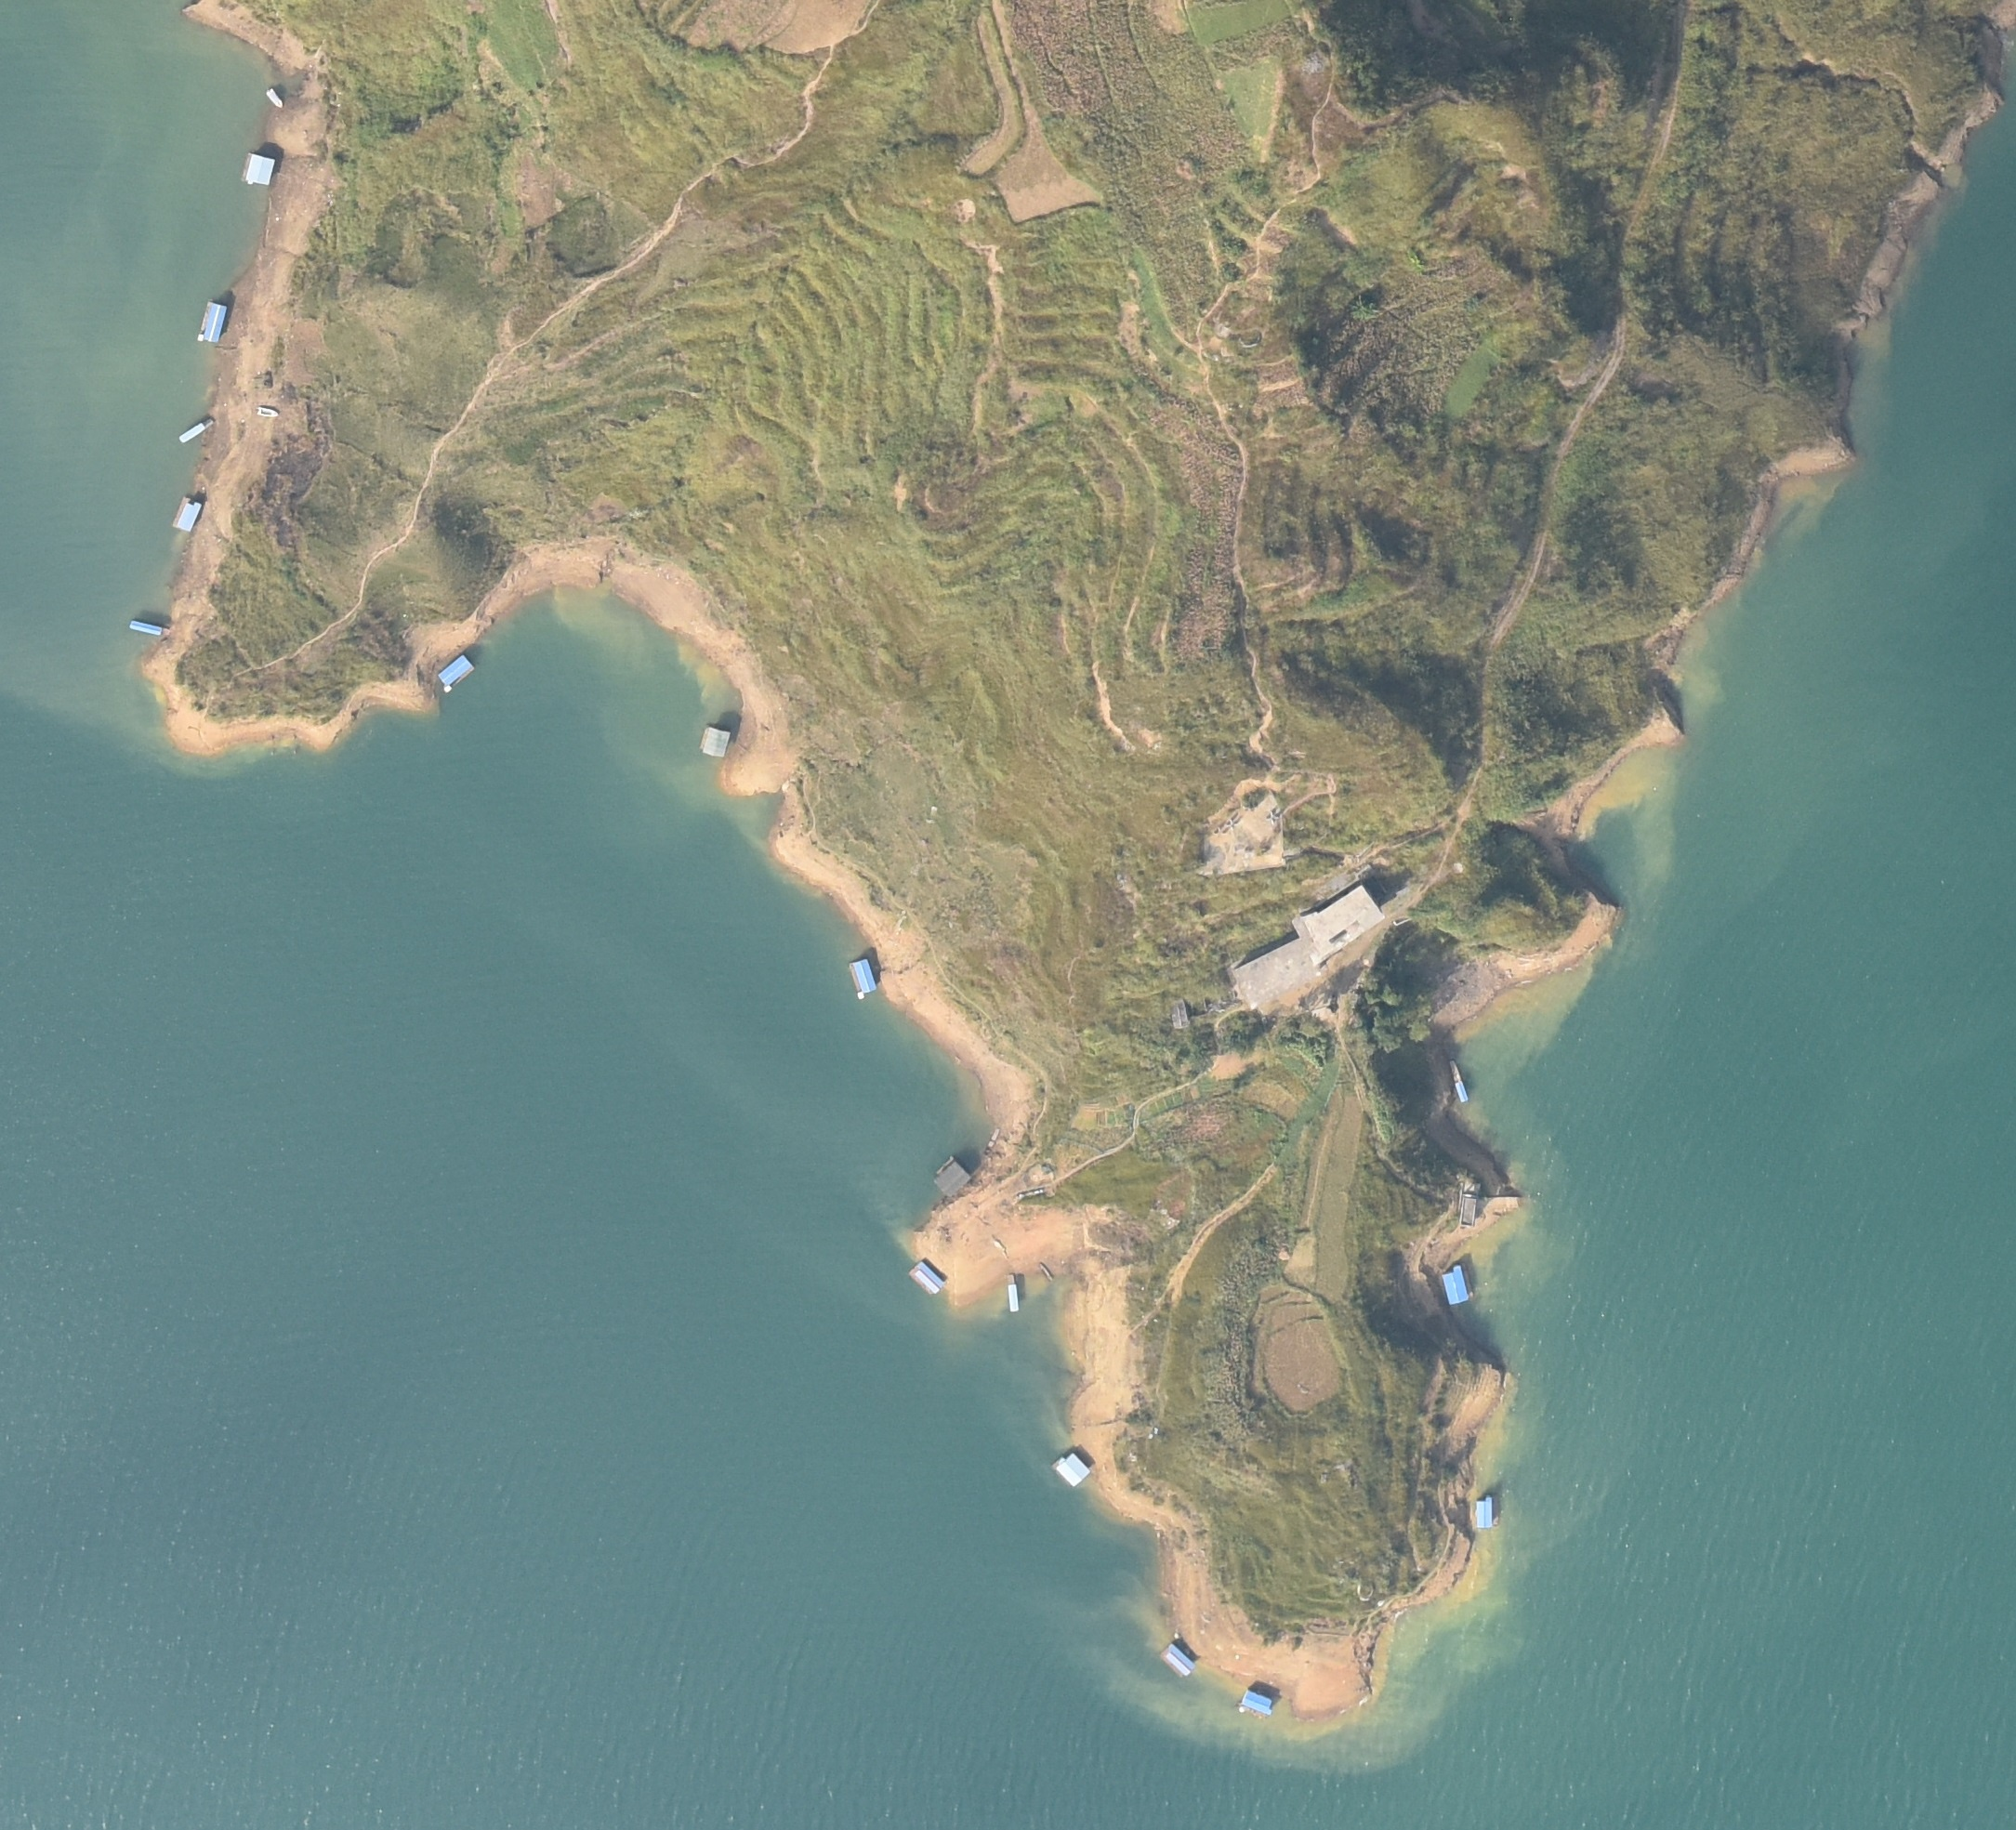building: (1298, 885, 1387, 964), (1229, 938, 1314, 1003), (1459, 1192, 1479, 1229)
prefabricated-house: (934, 1157, 975, 1198), (437, 653, 474, 692), (1440, 1261, 1470, 1307), (908, 1261, 945, 1296), (1055, 1454, 1092, 1489), (1161, 1642, 1194, 1681), (850, 959, 876, 999), (170, 497, 200, 532), (244, 153, 274, 184), (697, 727, 731, 755), (1243, 1690, 1275, 1716), (200, 304, 221, 342), (1475, 1495, 1494, 1530)
ship: (1449, 1057, 1472, 1103), (179, 416, 214, 444), (128, 618, 172, 636), (1006, 1273, 1020, 1310), (256, 404, 281, 420), (267, 88, 283, 109)
